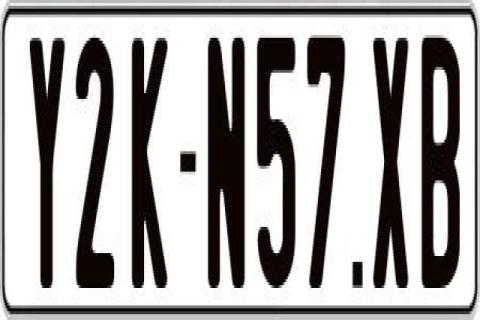0: (72, 38, 116, 291), (255, 38, 294, 306), (306, 38, 344, 300)
B: (420, 35, 465, 294)
K: (131, 32, 169, 296)
N: (205, 29, 247, 297)
X: (370, 35, 406, 303)
Y: (27, 29, 67, 282)
